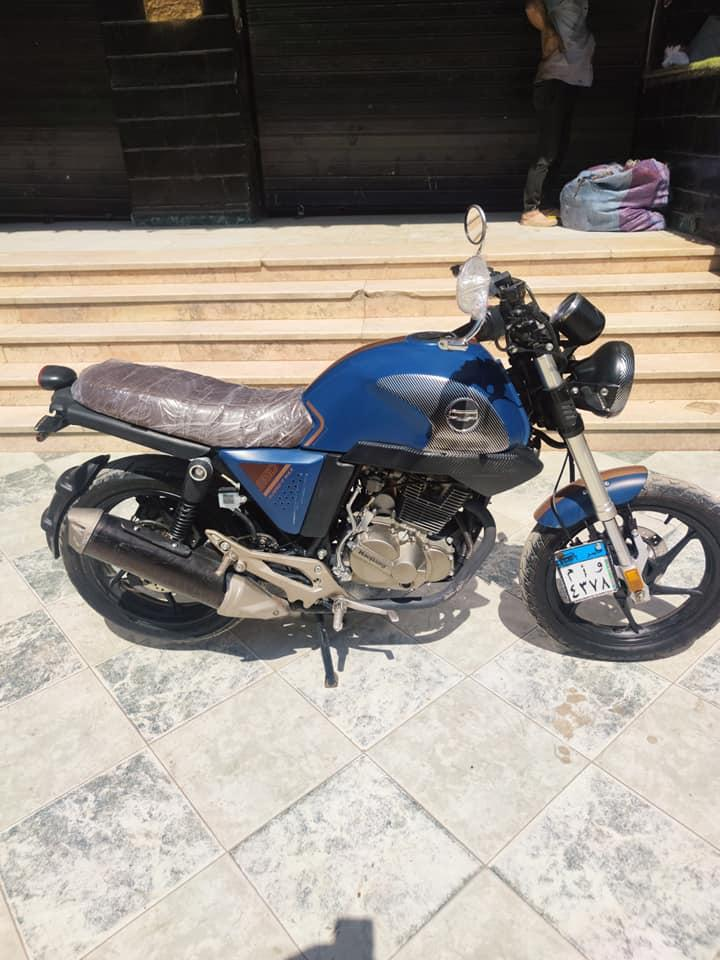License Plate: (555, 540, 625, 604)
